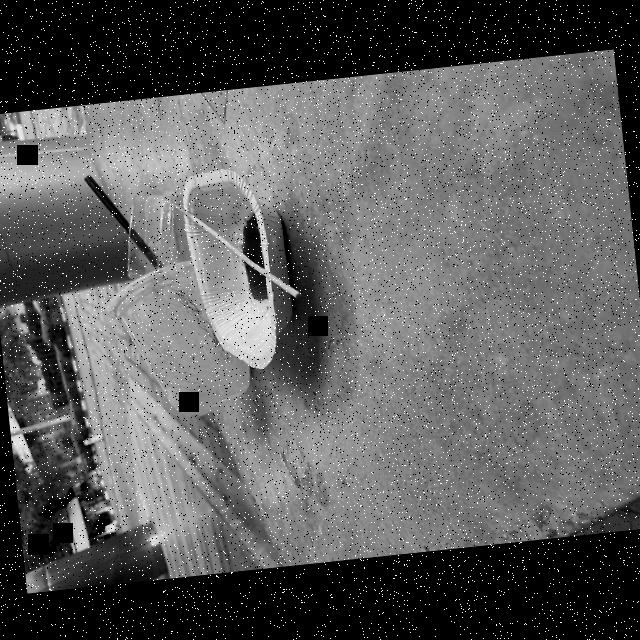cardboard_bowl: (170, 155, 310, 381)
plastic_cup: (104, 253, 254, 429)
stick: (174, 188, 305, 320)
straw: (76, 160, 160, 274)
